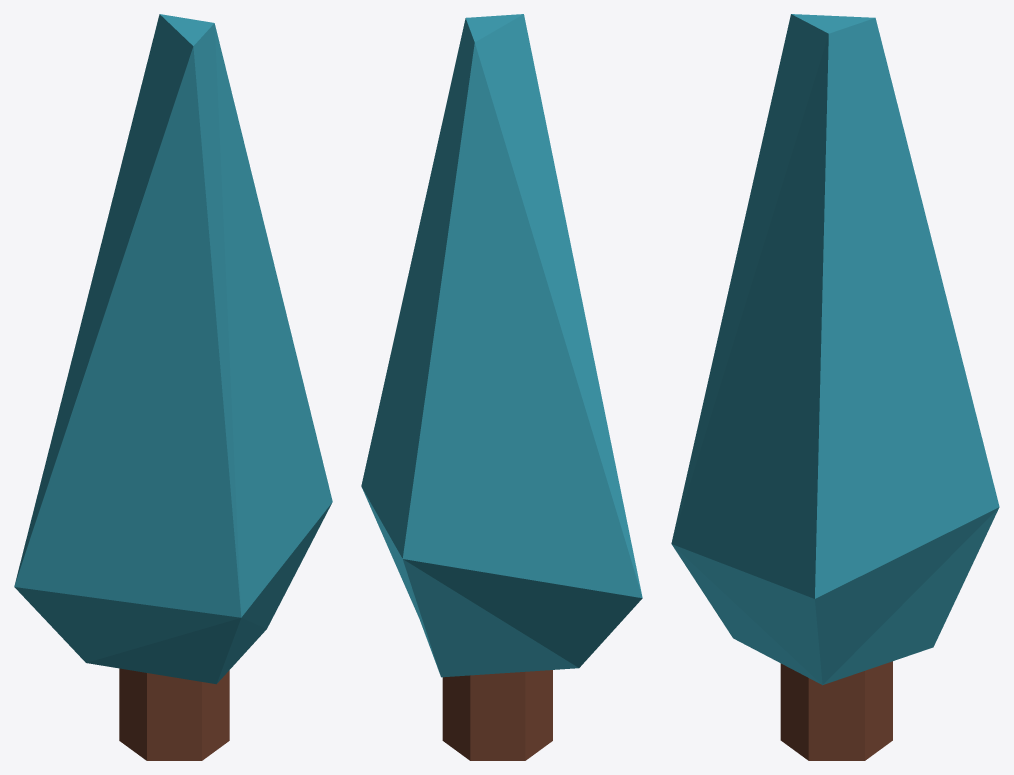
Rendered from Bush_10_summer_blue_vc.fbx.
The picture shows the model from 3 angles, left to right: view 1: azimuth 30°, elevation 25°; view 2: azimuth 150°, elevation 25°; view 3: azimuth 270°, elevation 25°; orthographic projection.
Parts seen in each view (by area): view 1: Bush_10_summer_blue_vc; view 2: Bush_10_summer_blue_vc; view 3: Bush_10_summer_blue_vc.
Part boxes in pixels (x1,y1,x2,y2): Bush_10_summer_blue_vc: (14,14,332,760); Bush_10_summer_blue_vc: (361,14,642,760); Bush_10_summer_blue_vc: (671,14,999,760).
Size of the model in its own units: 38.13 by 86.43 by 35.48.
